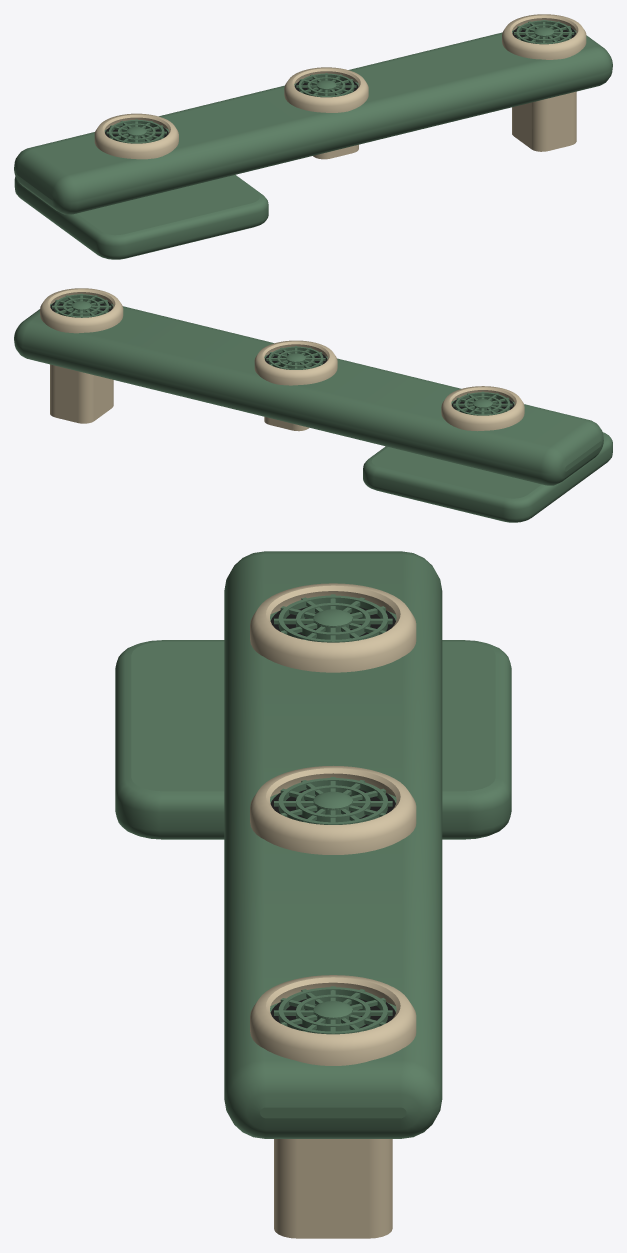
File: t200_fan.obj
3 views of the same model, one above another, from view 1: azimuth 30°, elevation 25°; view 2: azimuth 150°, elevation 25°; view 3: azimuth 270°, elevation 25° (orthographic). The views are drawn at different scales.
Parts seen in each view (by area): view 1: t200_fan; view 2: t200_fan; view 3: t200_fan.
Part boxes in pixels (bbox=[...]): t200_fan: bbox=[14, 14, 612, 259]; t200_fan: bbox=[14, 288, 612, 522]; t200_fan: bbox=[115, 551, 511, 1238].
Bounding box in the file's own units: 6.4 × 1.18 × 2.
